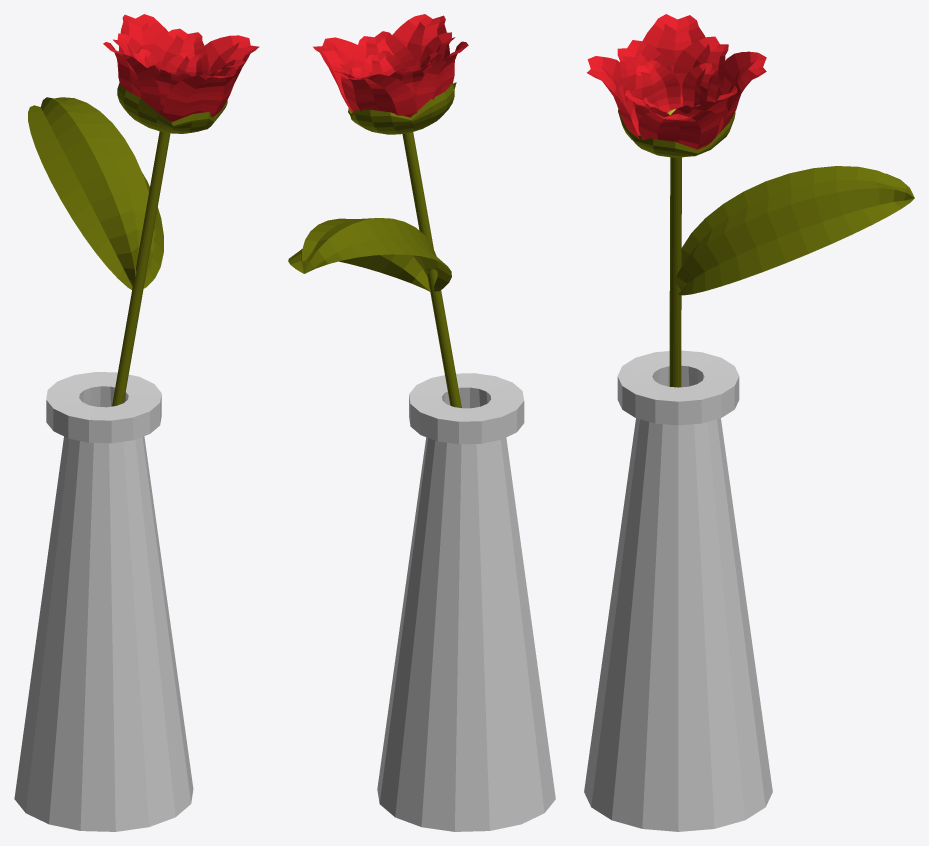
The model's file is Flower.fbx.
The picture shows the model from 3 angles, left to right: view 1: azimuth 30°, elevation 25°; view 2: azimuth 150°, elevation 25°; view 3: azimuth 270°, elevation 25°; orthographic projection. The views are drawn at different scales.
Visible parts, largest first — view 1: Flower Pot, Flower; view 2: Flower Pot, Flower; view 3: Flower Pot, Flower.
Boxes of the visible parts, x1,y1,x2,y2 form: Flower Pot: (14,372,193,831); Flower: (28,14,259,406); Flower Pot: (377,373,555,831); Flower: (288,14,468,407); Flower Pot: (584,350,772,831); Flower: (587,14,914,387).
Size of the model in its own units: 26.24 by 82.01 by 31.54.
